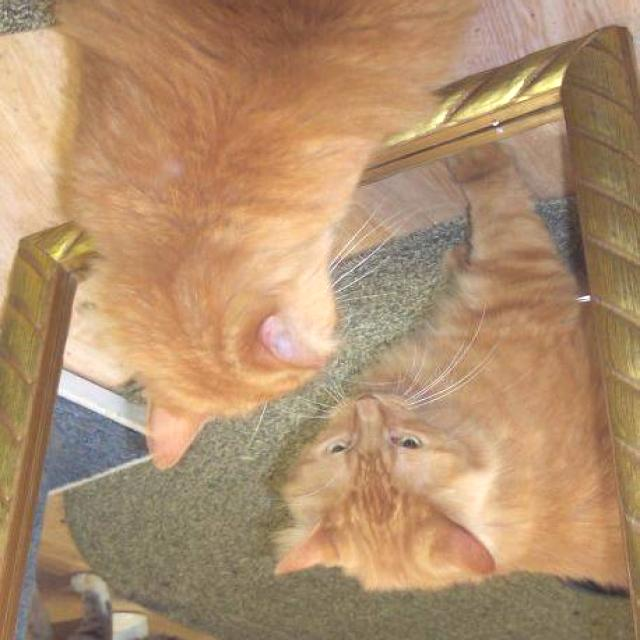Kucing: (39, 0, 552, 396), (240, 408, 640, 612)
